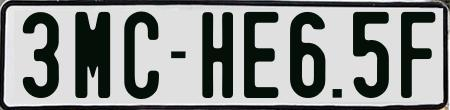3: (23, 9, 61, 100)
5: (351, 10, 389, 102)
6: (290, 11, 327, 102)
C: (123, 9, 162, 102)
E: (242, 10, 282, 96)
F: (399, 10, 431, 96)
H: (201, 11, 236, 98)
M: (75, 9, 112, 95)
